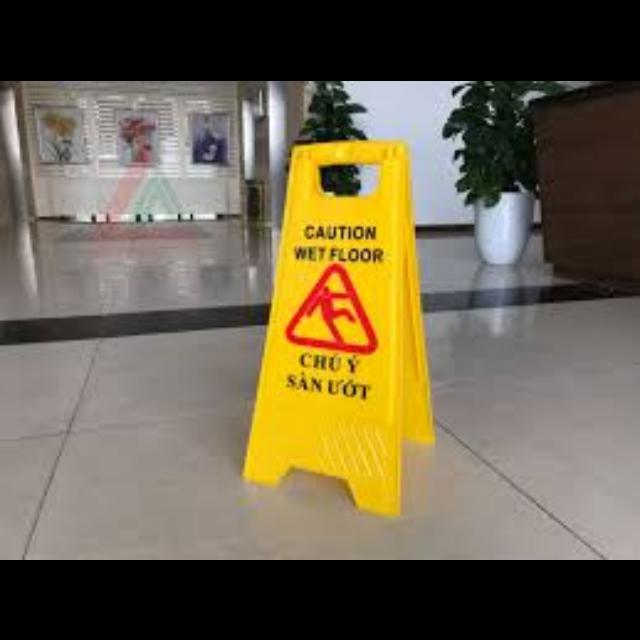tron truot: (242, 139, 432, 512)
